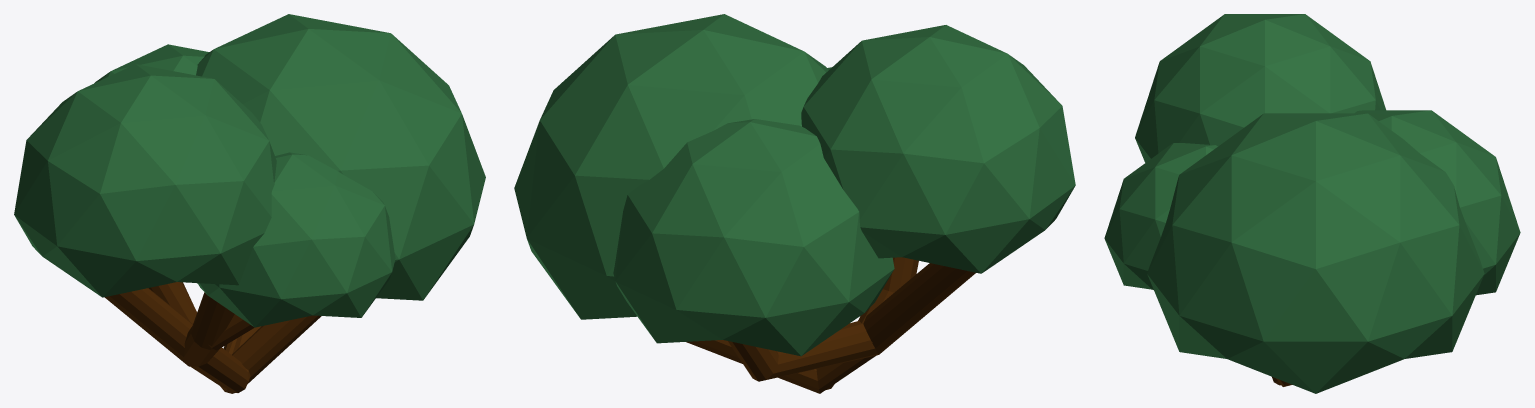
File: bush_variant1.fbx
3 views of the same model, side by side, from view 1: azimuth 30°, elevation 25°; view 2: azimuth 150°, elevation 25°; view 3: azimuth 270°, elevation 25° (orthographic). The views are drawn at different scales.
Parts seen in each view (by area): view 1: Icosphere.011, Icosphere.010, Icosphere.012, Vert.002, Icosphere.013; view 2: Icosphere.011, Icosphere.013, Icosphere.010, Vert.002; view 3: Icosphere.010, Icosphere.011, Icosphere.013, Icosphere.012.
Part boxes in pixels (x1,y1,x2,y2): Icosphere.011: (14,64,276,297); Icosphere.010: (196,14,485,300); Icosphere.012: (197,152,395,327); Vert.002: (105,282,321,393); Icosphere.013: (94,44,209,83); Icosphere.011: (801,25,1075,273); Icosphere.013: (613,119,894,356); Icosphere.010: (514,14,828,319); Vert.002: (686,257,975,393); Icosphere.010: (1147,113,1484,393); Icosphere.011: (1135,14,1385,162); Icosphere.013: (1355,110,1520,295); Icosphere.012: (1104,143,1217,289).
Bounding box in the file's own units: 56.39 × 41.68 × 48.57.
